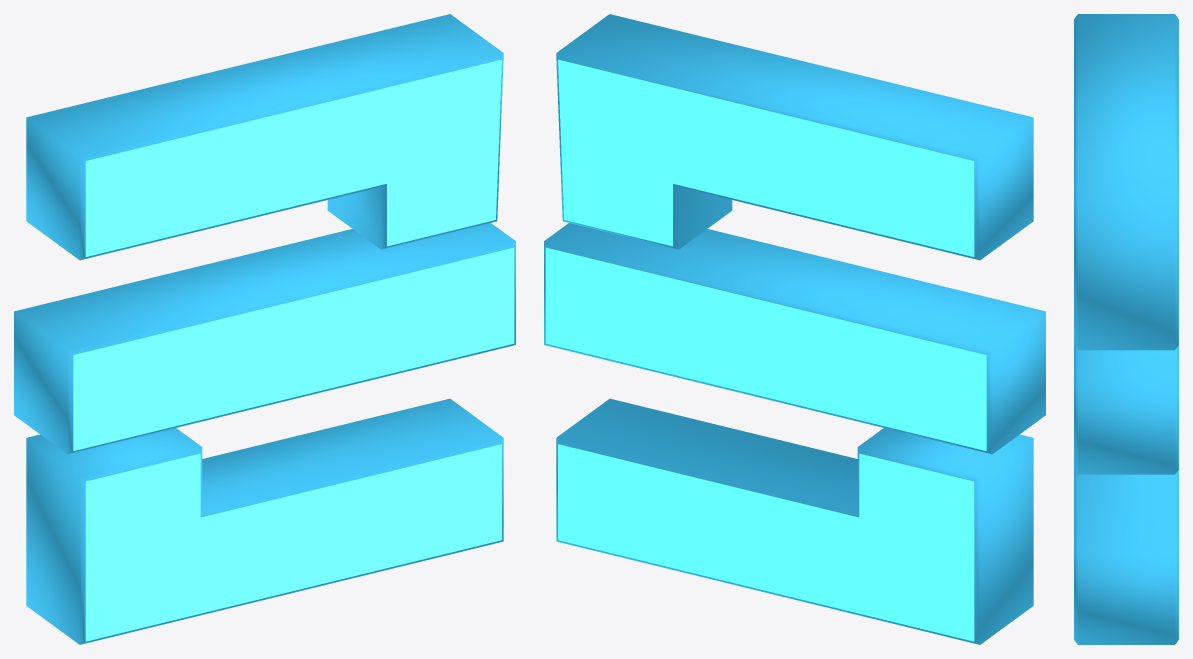
File: u_adfc_b.glb
3 views of the same model, side by side, from view 1: azimuth 30°, elevation 25°; view 2: azimuth 150°, elevation 25°; view 3: azimuth 270°, elevation 25° (orthographic). The views are drawn at different scales.
Visible parts, largest first — view 1: glyph; view 2: glyph; view 3: glyph.
Boxes of the visible parts, x1,y1,x2,y2 form: glyph: (14,14,515,644); glyph: (544,14,1045,644); glyph: (1074,14,1178,644).
Size of the model in its own units: 0.0726 by 0.0756 by 0.0162.
